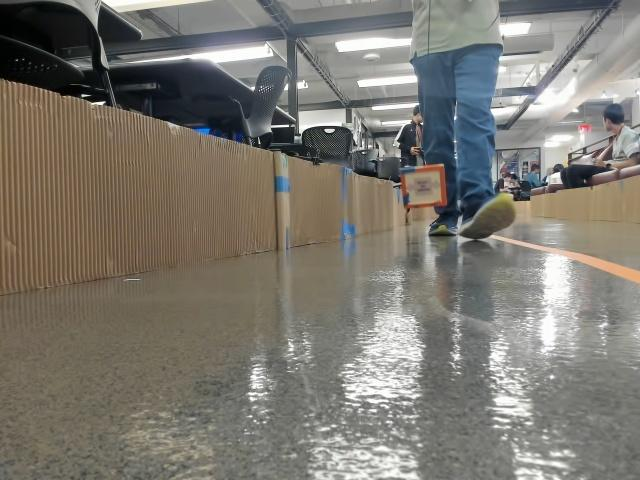Do Not Go Around: (406, 178, 436, 194)
